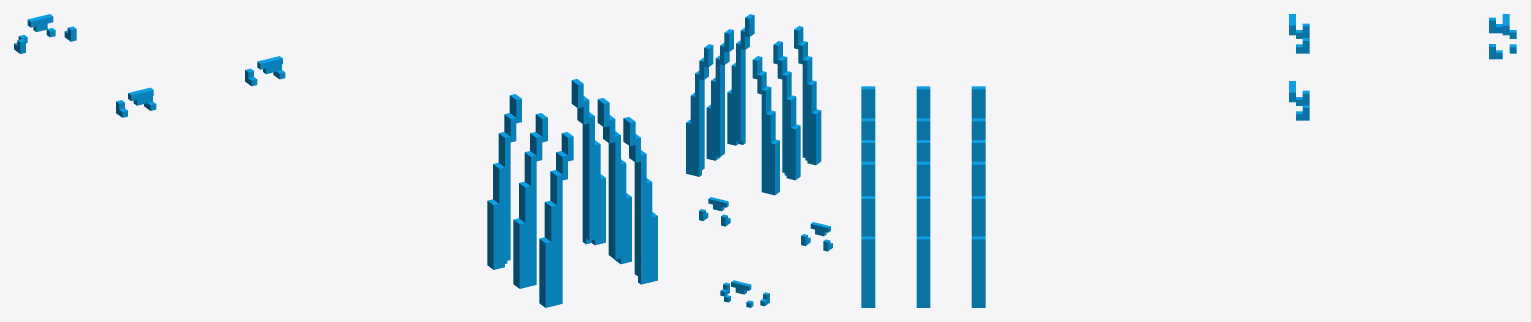
File: game暗线_白骨头漫反射.obj
3 views of the same model, side by side, from view 1: azimuth 30°, elevation 25°; view 2: azimuth 150°, elevation 25°; view 3: azimuth 270°, elevation 25° (orthographic). The views are drawn at different scales.
Size of the model in its own units: 6.1 by 2.8 by 9.5.
Materials: 1 (1 with a texture image).
